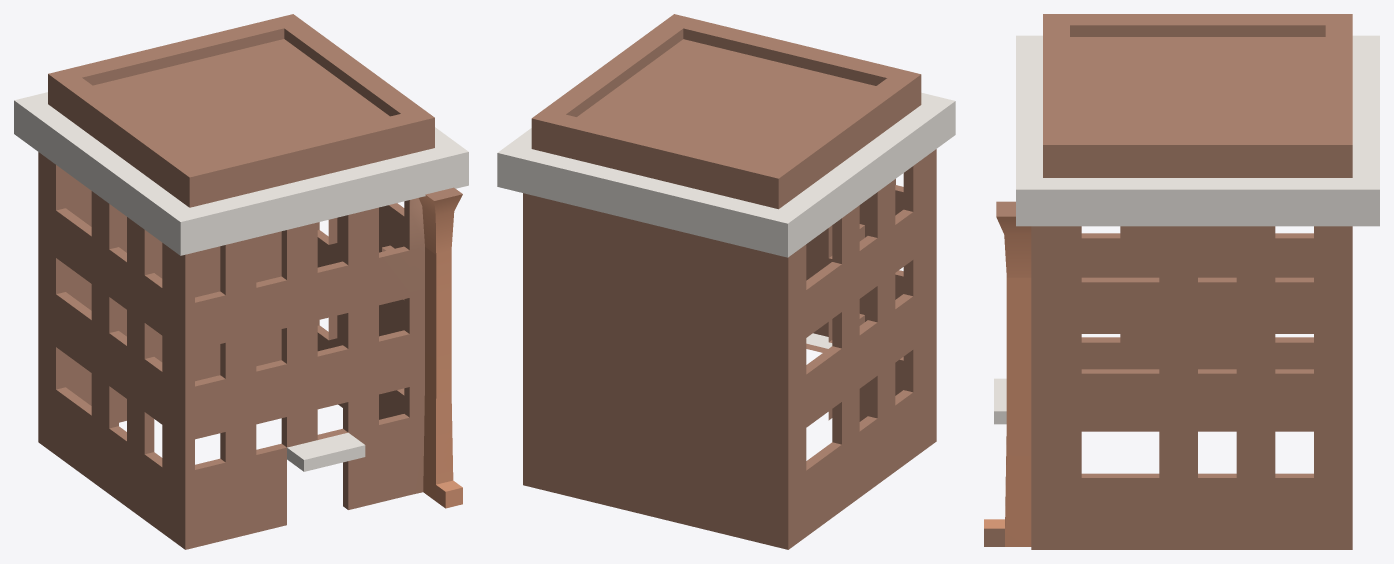
File: Build2.fbx
The picture shows the model from 3 angles, left to right: view 1: azimuth 30°, elevation 25°; view 2: azimuth 150°, elevation 25°; view 3: azimuth 270°, elevation 25°; orthographic projection. The views are drawn at different scales.
Parts seen in each view (by area): view 1: Build2; view 2: Build2; view 3: Build2.
Boxes of the visible parts, bbox=[...] form: Build2: bbox=[14, 14, 468, 549]; Build2: bbox=[497, 14, 955, 549]; Build2: bbox=[984, 14, 1379, 549].
Bounding box in the file's own units: 1.28 × 1.55 × 1.39.
